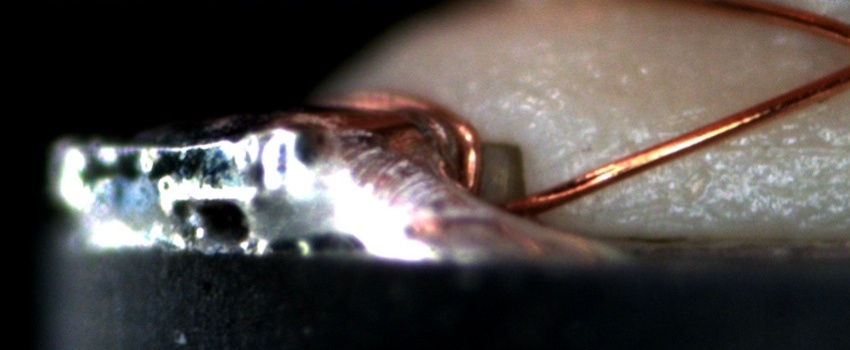DL: (707, 120, 849, 175)
TE: (306, 84, 486, 204)
